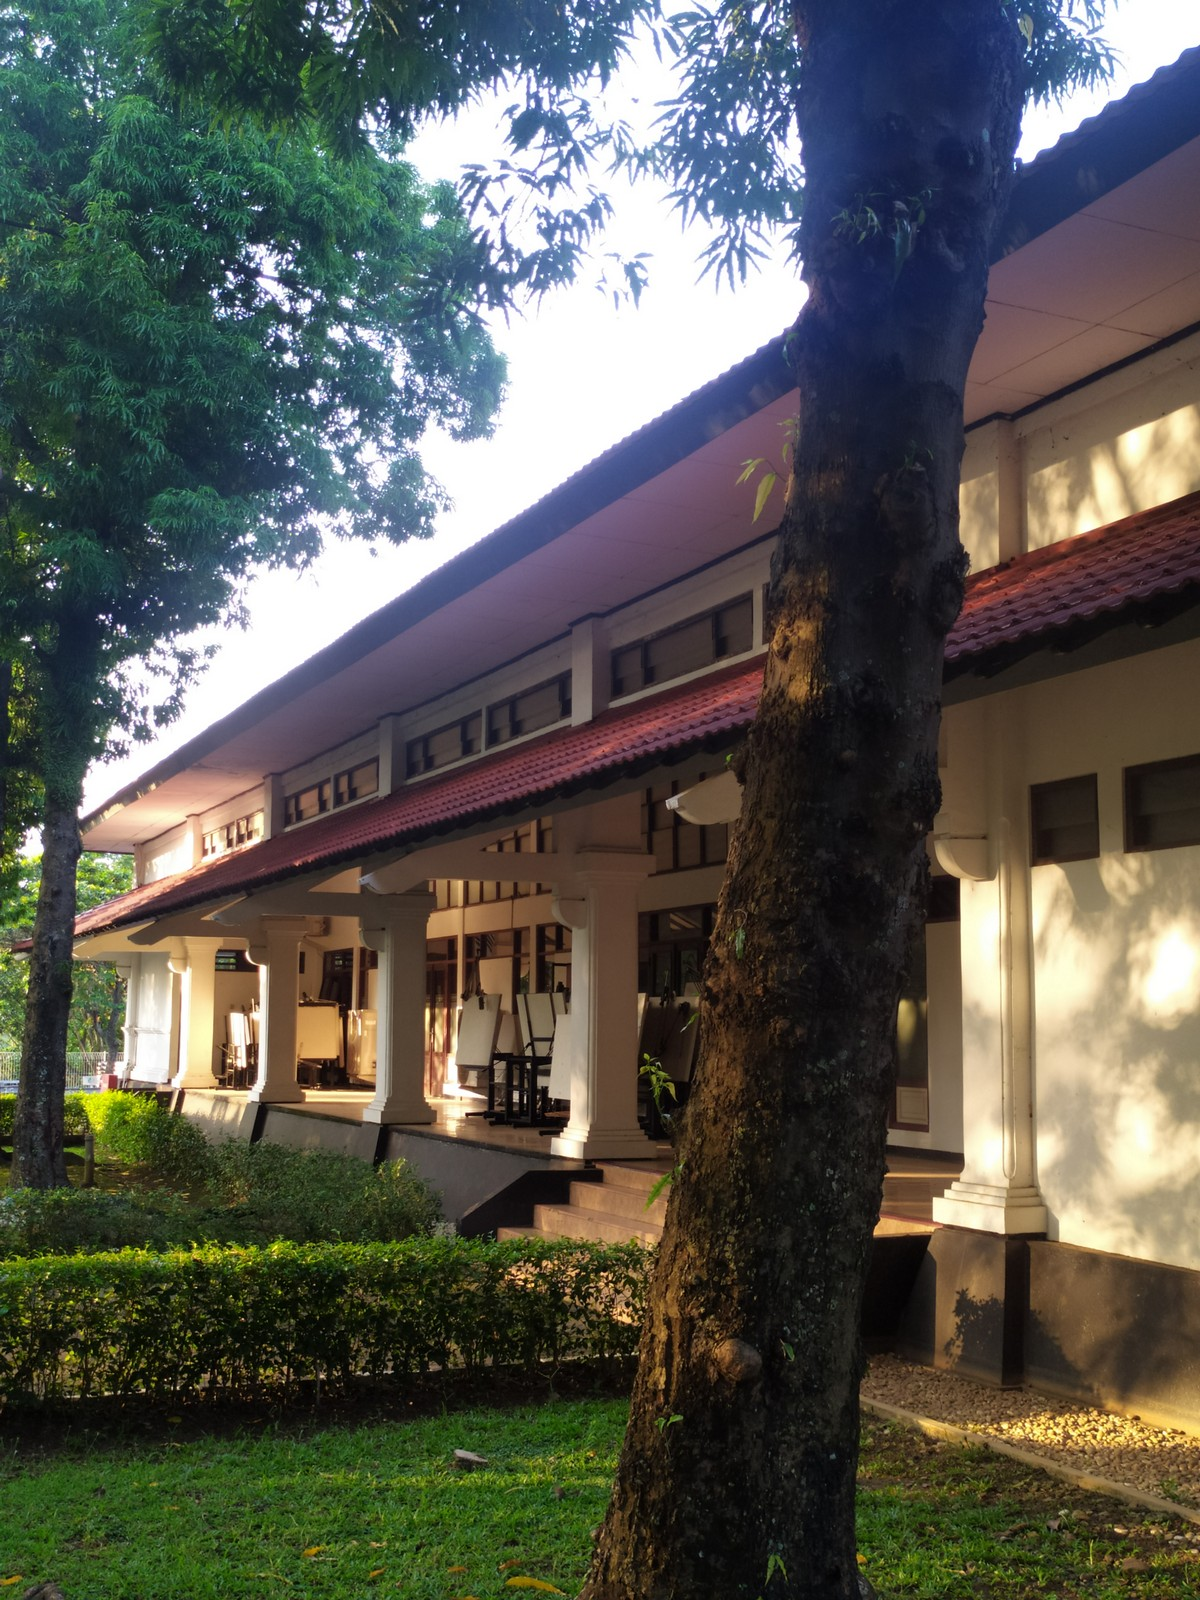concrete column: (945, 819, 1053, 1231), (561, 867, 642, 1155), (366, 925, 430, 1123), (255, 939, 304, 1100)
